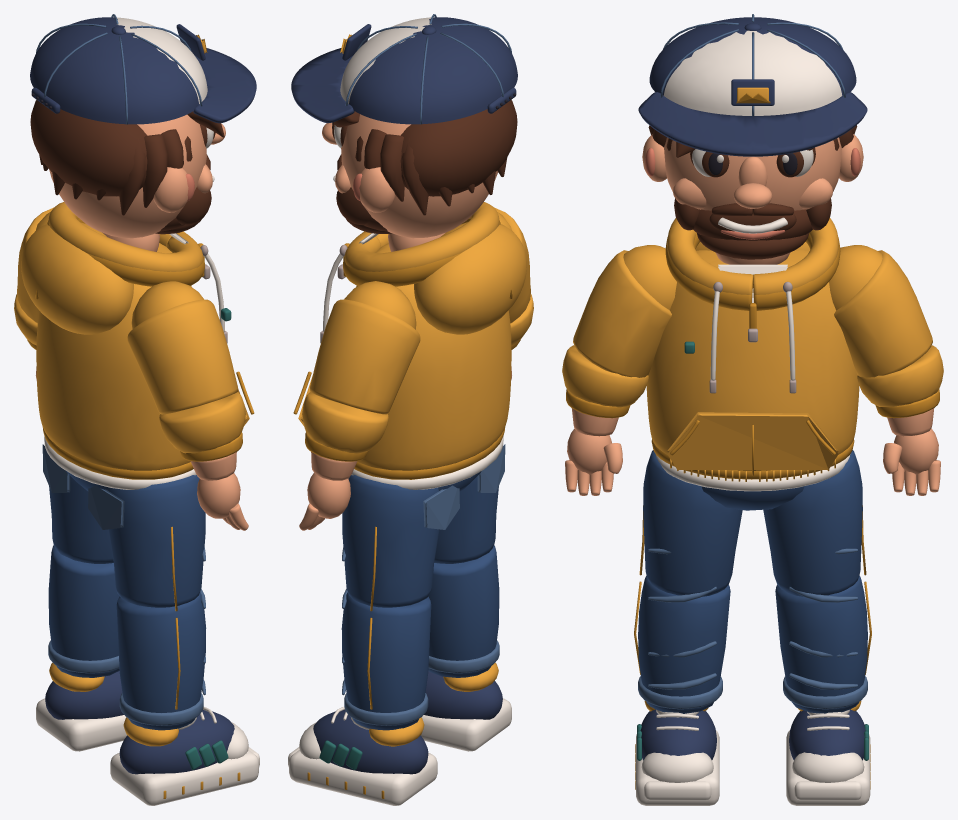
Rendered from npc.civilian-man-b.glb.
3 renders of one model, left to right at view 1: azimuth 30°, elevation 25°; view 2: azimuth 150°, elevation 25°; view 3: azimuth 270°, elevation 25°, orthographic.
Visible parts, largest first — view 1: head, torso, shinR, legR, armR, footR, shinL, footL, foreArmR, legL, hip, handR (+2 smaller); view 2: head, torso, shinL, legL, armL, footL, shinR, footR, foreArmL, legR, hip, handL (+2 smaller); view 3: torso, head, shinR, shinL, legL, legR, armL, armR, footL, footR, foreArmL, foreArmR (+3 smaller).
Part boxes in pixels (bbox=[...]): head: bbox=[30, 14, 256, 251]; torso: bbox=[21, 202, 254, 489]; shinR: bbox=[116, 588, 206, 730]; legR: bbox=[108, 475, 205, 611]; armR: bbox=[127, 281, 237, 414]; footR: bbox=[110, 707, 259, 805]; shinL: bbox=[48, 545, 119, 677]; footL: bbox=[36, 662, 127, 751]; foreArmR: bbox=[159, 392, 245, 480]; legL: bbox=[49, 476, 113, 563]; hip: bbox=[42, 444, 124, 529]; handR: bbox=[197, 473, 248, 530]; head: bbox=[291, 14, 517, 251]; torso: bbox=[293, 202, 526, 489]; shinL: bbox=[341, 588, 431, 730]; legL: bbox=[342, 475, 439, 611]; armL: bbox=[310, 281, 420, 414]; footL: bbox=[288, 707, 437, 805]; shinR: bbox=[428, 545, 499, 677]; footR: bbox=[420, 662, 511, 751]; foreArmL: bbox=[302, 392, 388, 480]; legR: bbox=[434, 476, 498, 563]; hip: bbox=[423, 444, 505, 529]; handL: bbox=[299, 473, 350, 530]; torso: bbox=[646, 218, 859, 491]; head: bbox=[638, 14, 867, 264]; shinR: bbox=[634, 575, 730, 713]; shinL: bbox=[775, 575, 871, 713]; legL: bbox=[763, 450, 866, 596]; legR: bbox=[639, 450, 742, 596]; armL: bbox=[829, 245, 932, 377]; armR: bbox=[573, 245, 676, 377]; footL: bbox=[786, 701, 870, 805]; footR: bbox=[635, 701, 719, 805]; foreArmL: bbox=[857, 345, 943, 436]; foreArmR: bbox=[562, 345, 648, 436].
Bounding box in the file's own units: 0.5292 × 1.8 × 0.8383.
